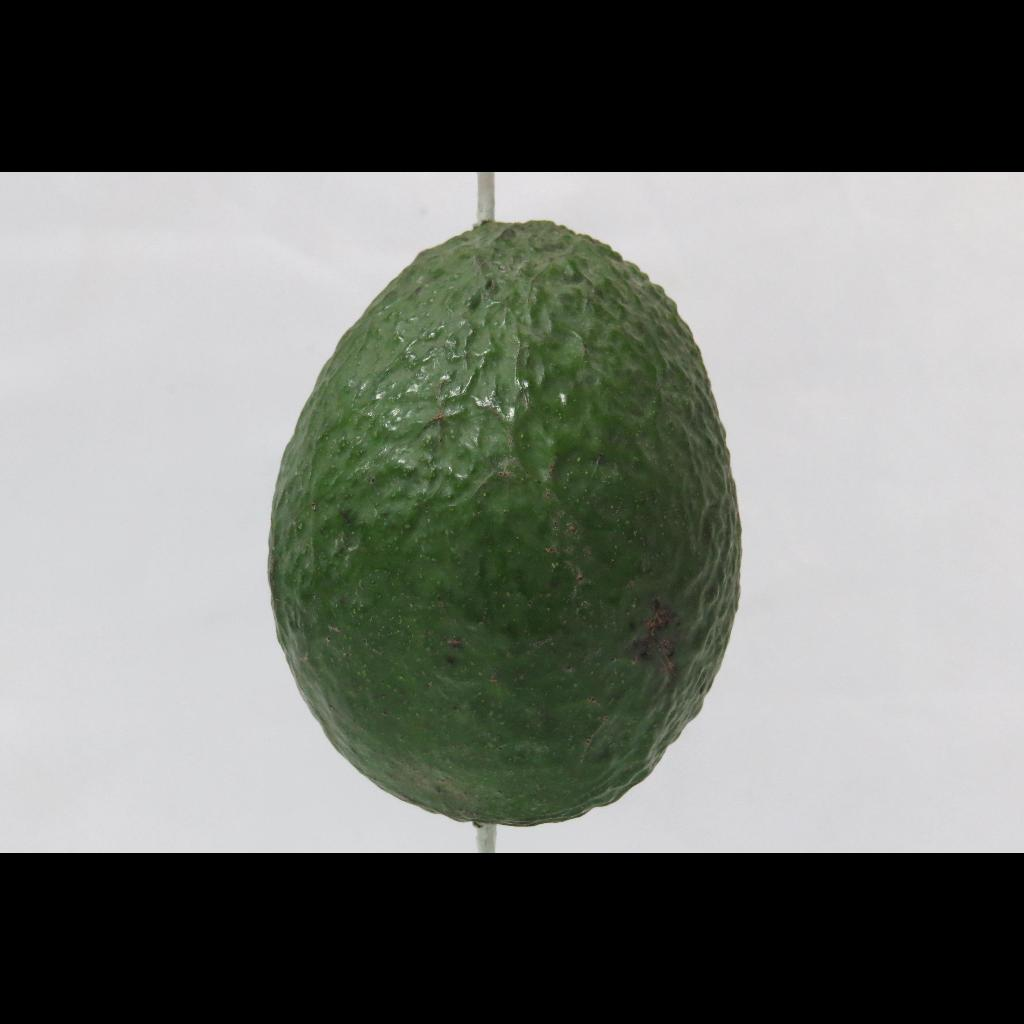Healthy: (180, 197, 782, 829)
